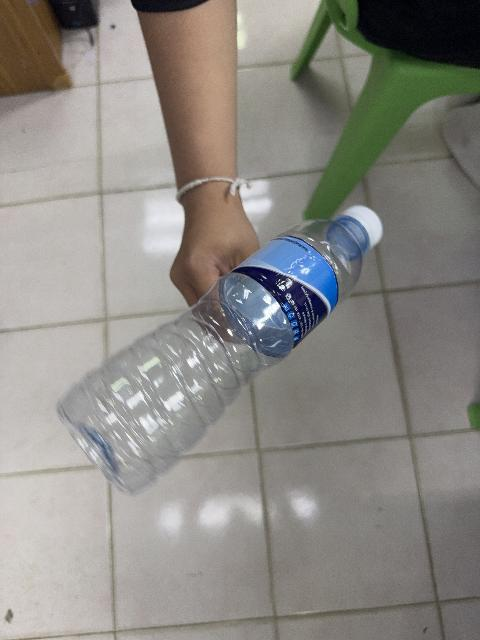bottle: (58, 206, 381, 494)
